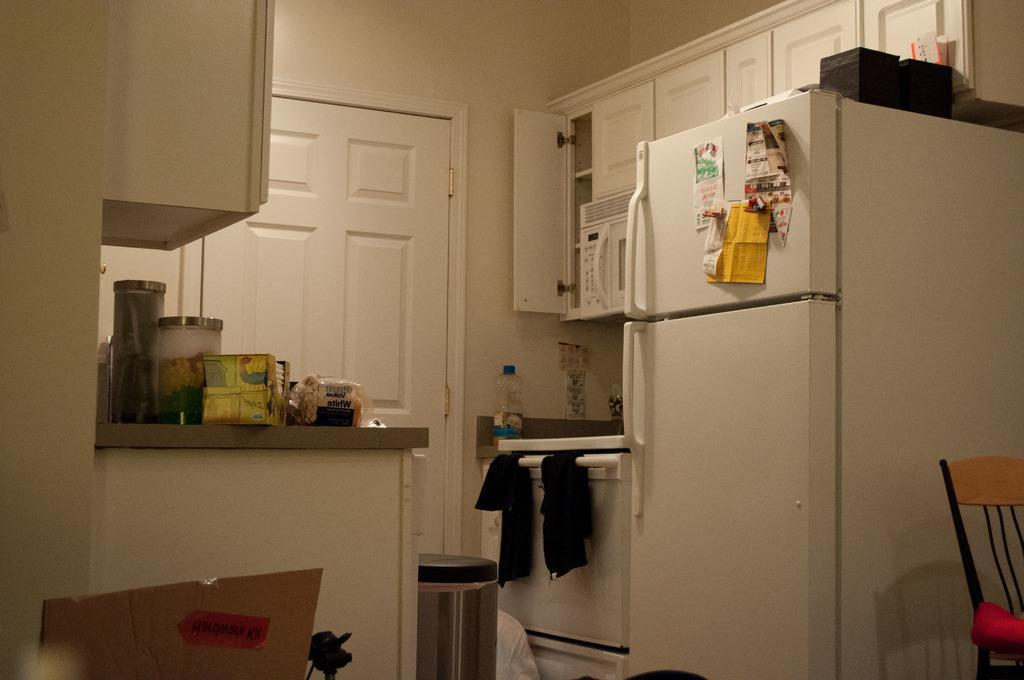door: (202, 102, 450, 560)
